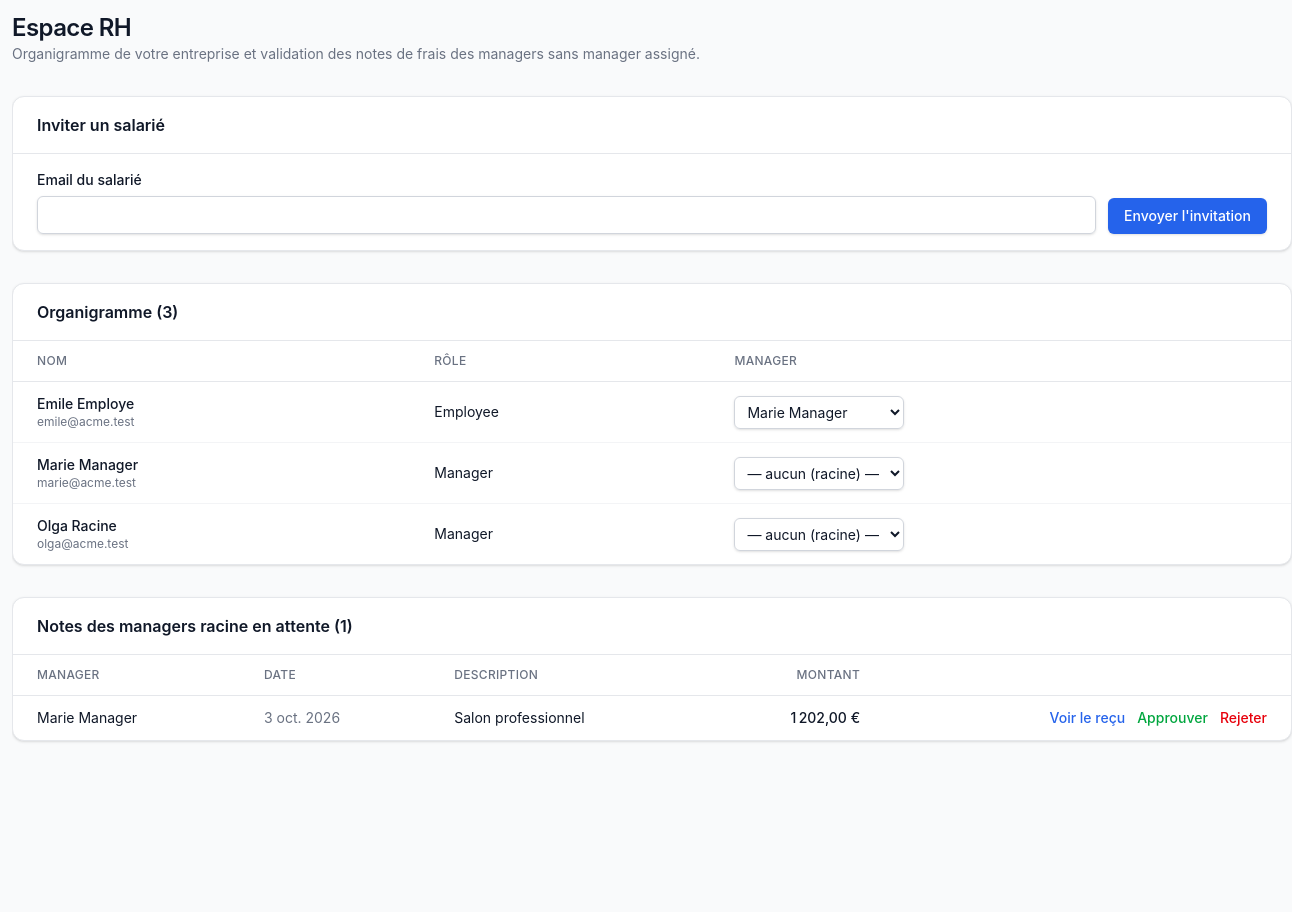
Test: AdminConsole › « Rejeter » tranche la note de manager racine puis recharge les notes
Expected: the row "Salon professionnel" is shown, [13,696,1291,740]
Click the button "Rejeter" at (1243, 718), box [1220,708,1267,728]
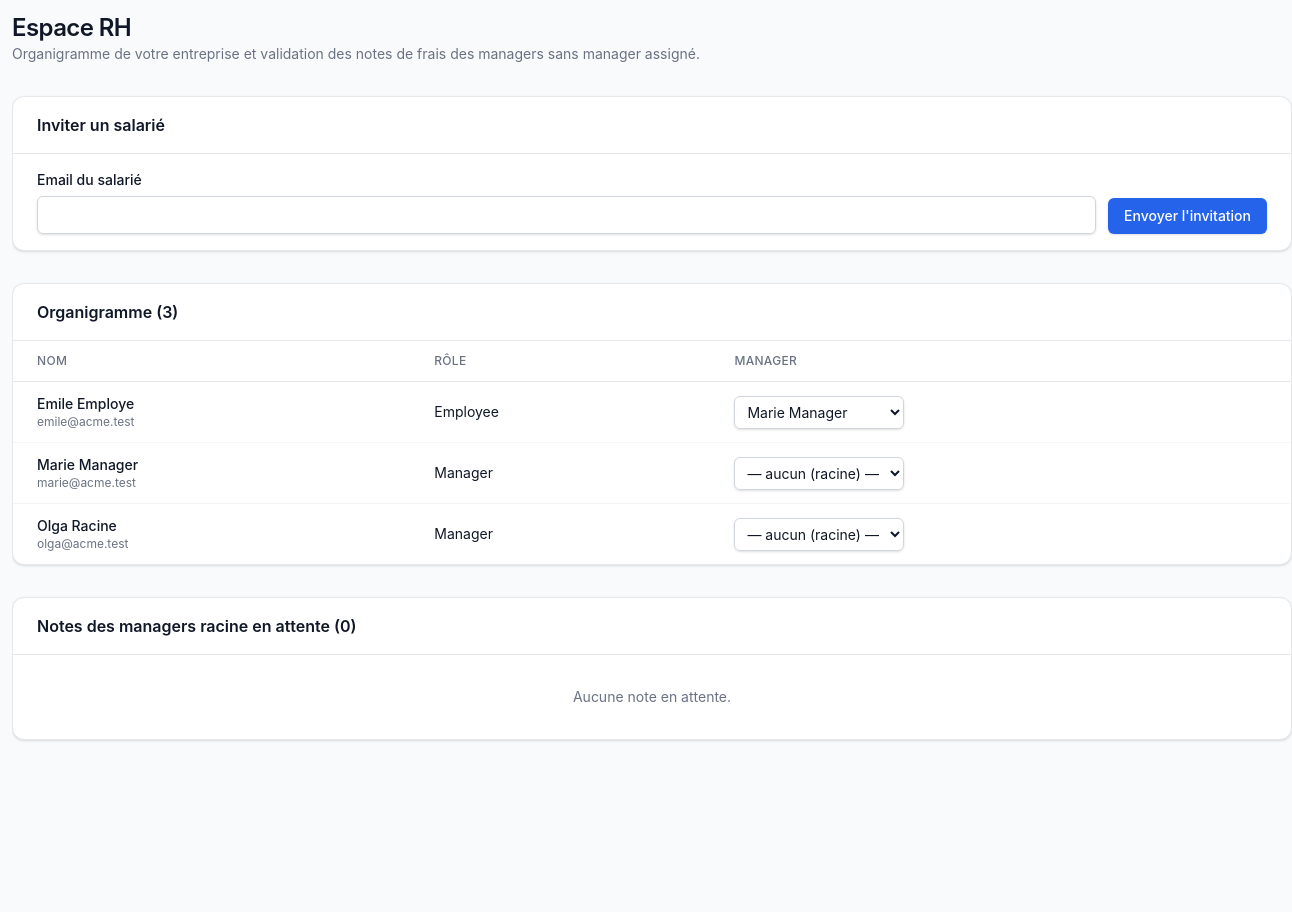
Expected: the text "Aucune note en attente." is shown, [573,688,731,705]
